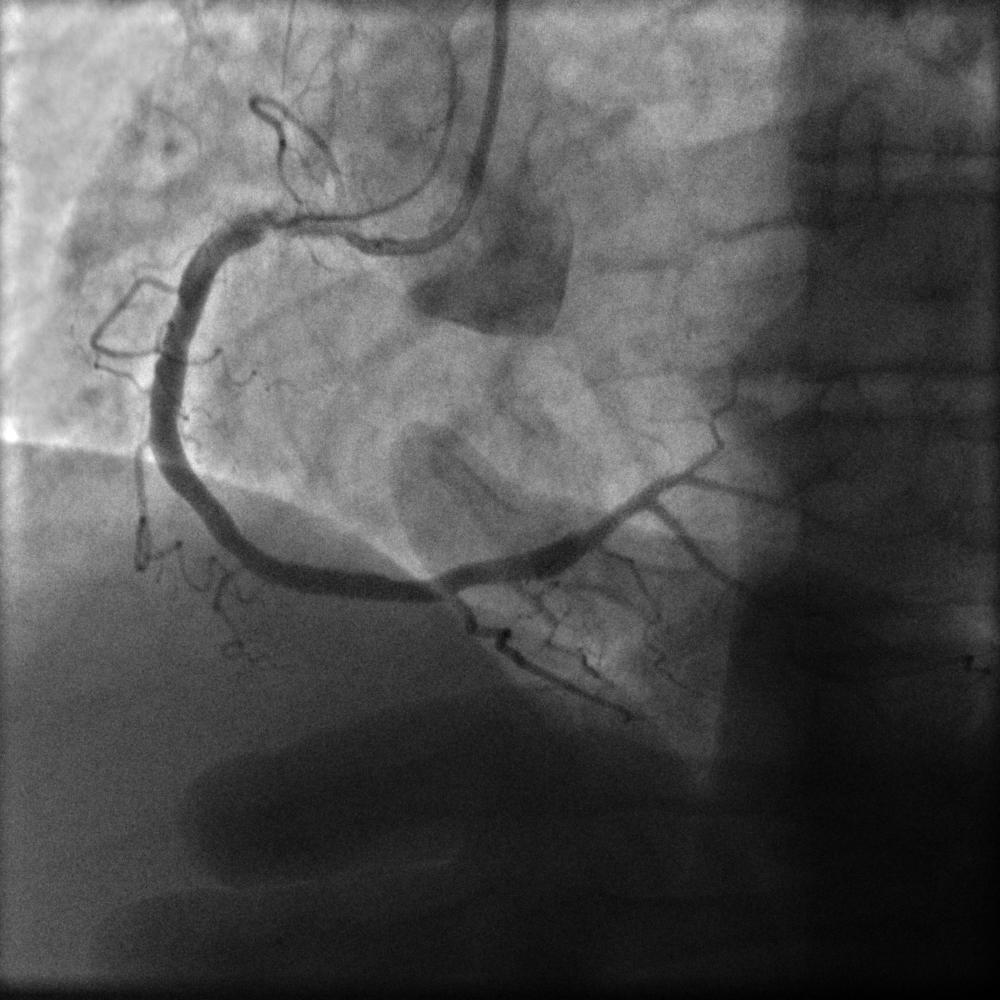Stenosis: (256, 200, 346, 255)
